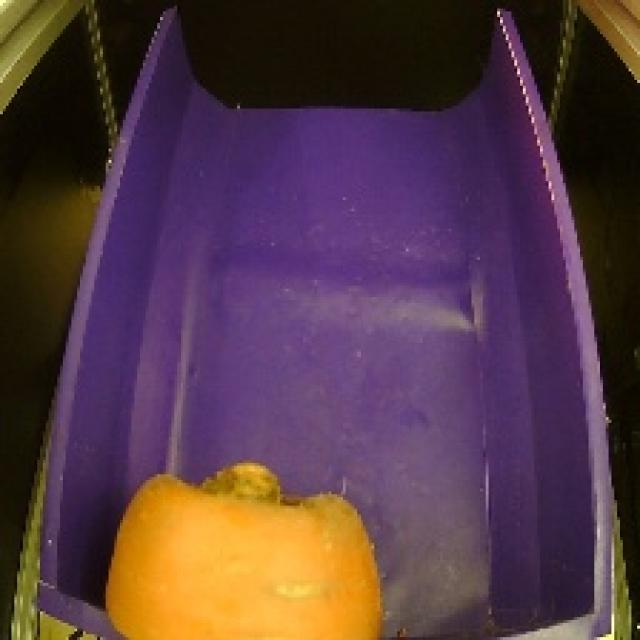carrots: (96, 449, 392, 640)
